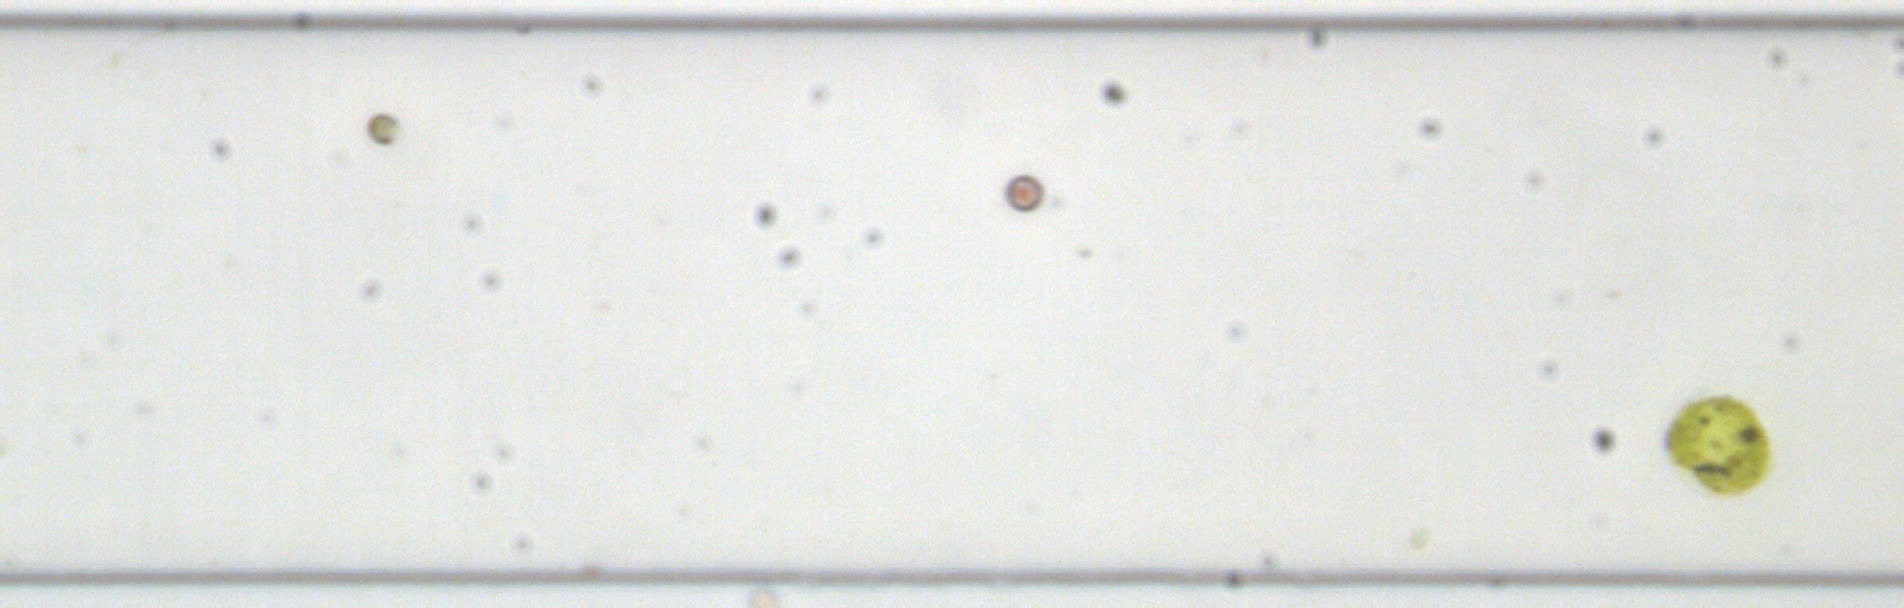Chlorella: (364, 112, 401, 144)
Haematococcus: (1656, 392, 1775, 499)
Porphyridium: (1002, 171, 1044, 215)
